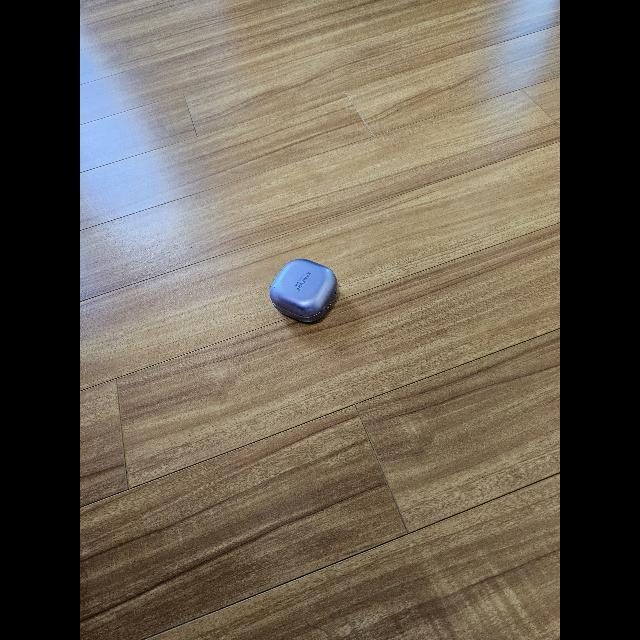buds-pro: (268, 255, 340, 325)
